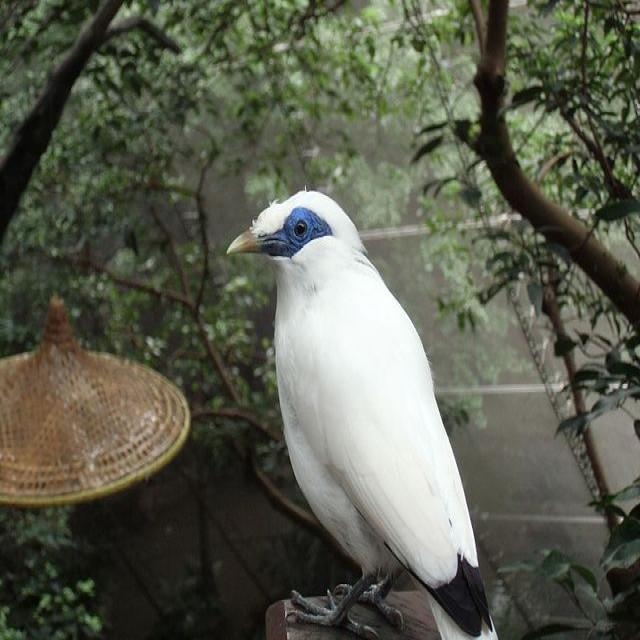Jalak Bali: (213, 176, 519, 640)
